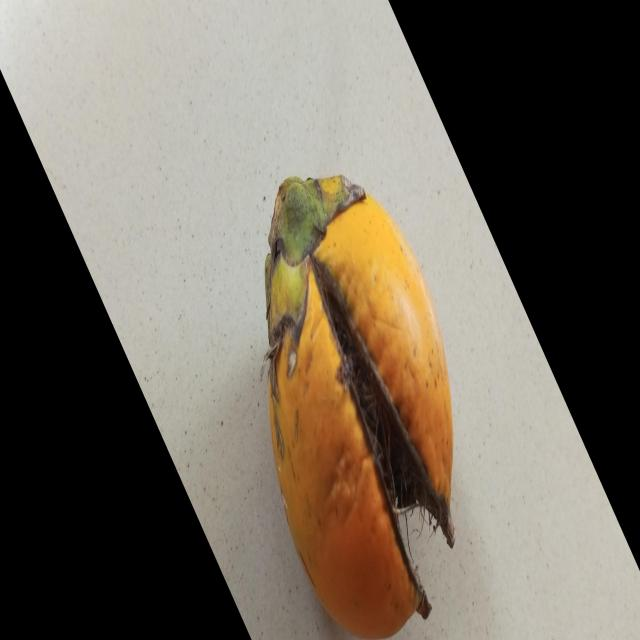damaged: (265, 176, 455, 638)
